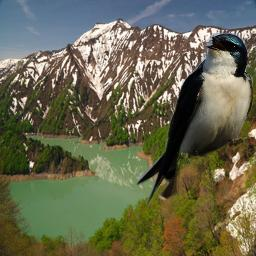Swallow: (136, 33, 253, 207)
